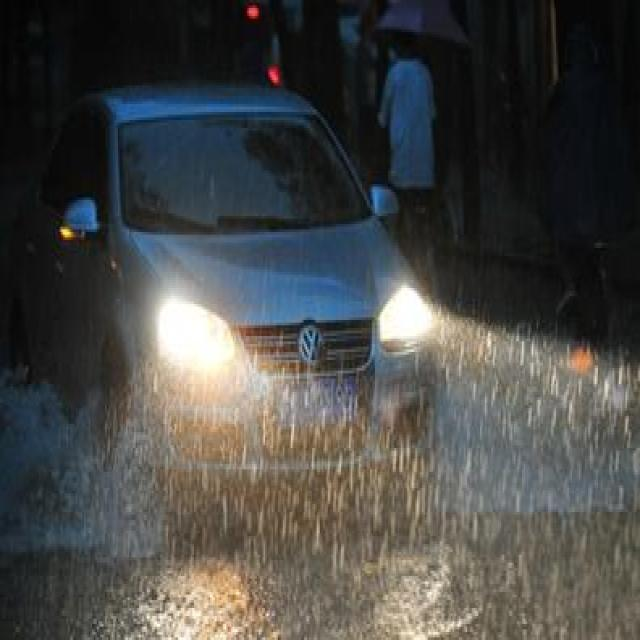car: (4, 78, 433, 486)
